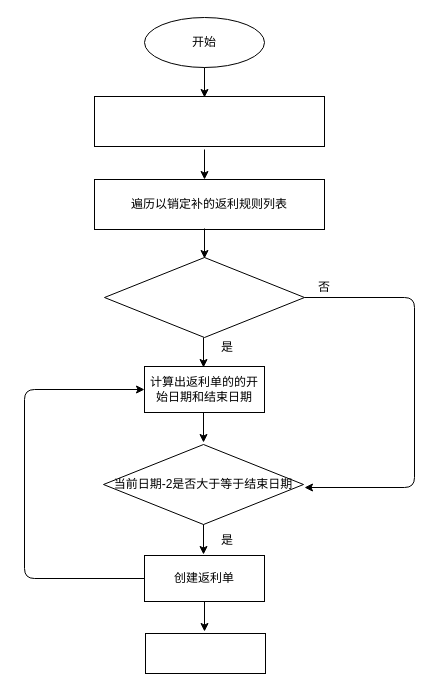
This 440x691 diagram has some shape labels left out. Here are the shapes that lost their labels. From the top down, the centre of each, then its label:
(209,121): 获取有效的以销定补的返利规则列表
(204,297): 根据规则的起止日期判断是否跨月
(205,653): 写ebs
